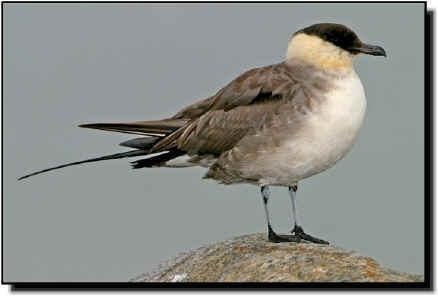bird: (18, 21, 388, 245)
